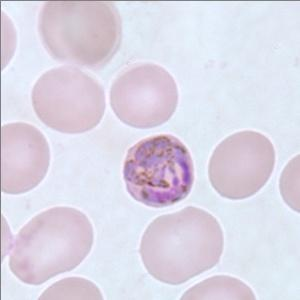Infected: (121, 132, 196, 207)
Uninfected: (11, 205, 95, 285), (139, 208, 223, 285), (37, 0, 124, 71), (31, 70, 106, 133), (209, 130, 276, 200), (111, 62, 178, 127), (0, 121, 51, 196)
